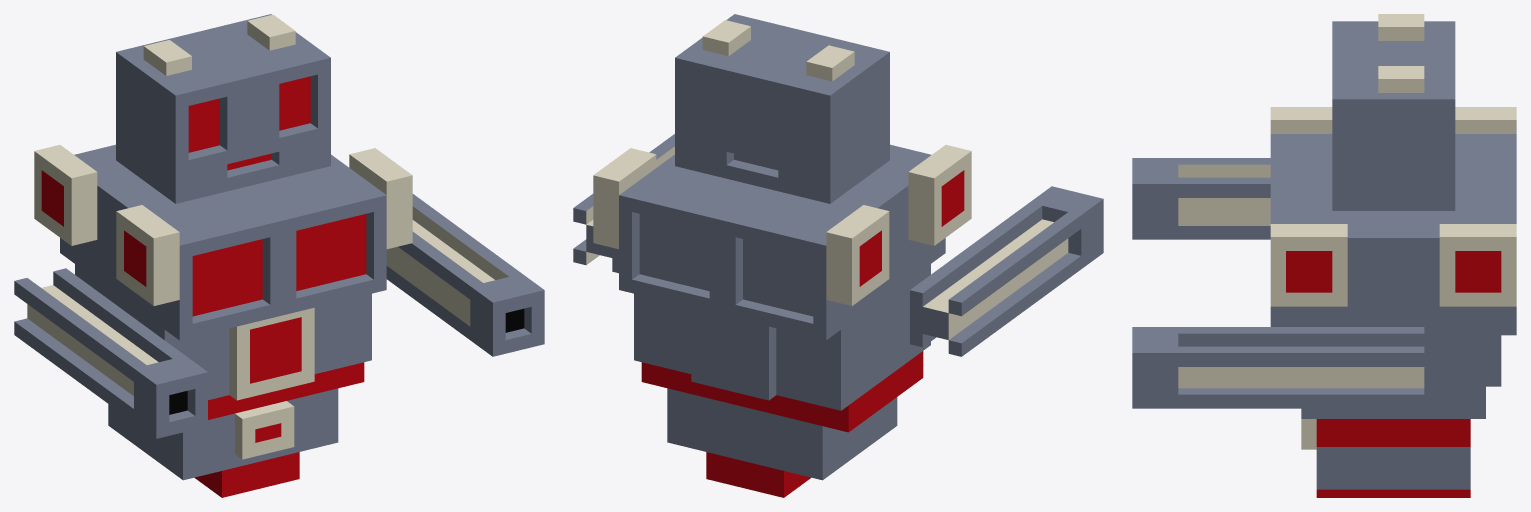
The model's file is meh1(1).fbx.
3 views of the same model, side by side, from view 1: azimuth 30°, elevation 25°; view 2: azimuth 150°, elevation 25°; view 3: azimuth 270°, elevation 25° (orthographic). The views are drawn at different scales.
Visible parts, largest first — view 1: meh, meh.001, meh.002; view 2: meh, meh.001, meh.002; view 3: meh, meh.002, meh.001.
Boxes of the visible parts, bbox=[...] form: meh: bbox=[34, 14, 412, 497]; meh.001: bbox=[14, 268, 207, 438]; meh.002: bbox=[386, 194, 544, 356]; meh: bbox=[593, 14, 971, 497]; meh.001: bbox=[910, 186, 1103, 356]; meh.002: bbox=[573, 134, 674, 273]; meh: bbox=[1270, 14, 1516, 497]; meh.002: bbox=[1132, 327, 1424, 408]; meh.001: bbox=[1132, 158, 1270, 239].
Size of the model in its own units: 3000 by 3100 by 2500.
